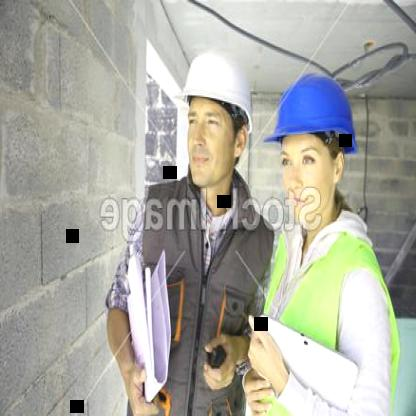helmet: (270, 52, 366, 224), (172, 34, 260, 200)
